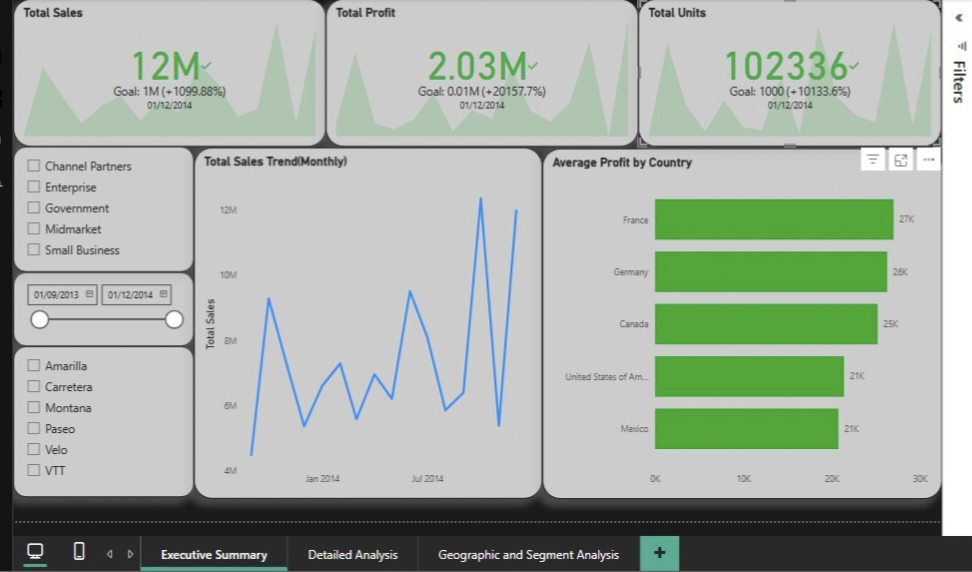

This screenshot's page, from the dashboard's own definition file:
{"tool":"powerbi","page":{"name":"Executive Summary","canvas":[1280,720],"ordinal":0},"visuals":[{"type":"kpi","title":"Total Sales ","fields":{"Indicator":["financials.Total Sales"],"TrendLine":["financials.Date"],"Goal":["financials.Sales Target"]},"box":[0,0,430.8,203.7],"z":0},{"type":"kpi","title":"Total Profit","fields":{"Indicator":["financials.Total Profit"],"TrendLine":["financials.Date"],"Goal":["financials.Profit target"]},"box":[430.8,0,430.8,203.7],"z":1000},{"type":"kpi","title":"Total Units","fields":{"Indicator":["financials.Total Units"],"TrendLine":["financials.Date"],"Goal":["financials.Unit Target"]},"box":[861.6,0,418.4,203.7],"z":2000},{"type":"slicer","fields":{"Values":["financials.Date"]},"box":[0,377.1,249.1,101.8],"z":3000},{"type":"slicer","fields":{"Values":["financials.Product"]},"box":[0,479,249.1,207.8],"z":4000},{"type":"slicer","fields":{"Values":["financials.Segment"]},"box":[0,203.7,249.1,173.4],"z":5000},{"type":"lineChart","title":"Total Sales Trend(Monthly)","fields":{"Category":["financials.Date.Variation.Date Hierarchy.Year","financials.Date.Variation.Date Hierarchy.Month"],"Y":["financials.Total Sales"]},"box":[249.1,205.1,480.3,484.5],"z":6000},{"type":"clusteredBarChart","title":"Average Profit by Country","fields":{"Y":["Avg(financials.Profit)"],"Category":["financials.Country"]},"box":[729.5,206.5,550.5,483.1],"z":7000}]}

Visuals, with their boxes in screenshot pixels (x1, y1, x2, y2):
"Total Sales " kpi: [x1=13, y1=0, x2=324, y2=145]
"Total Profit" kpi: [x1=324, y1=0, x2=635, y2=145]
"Total Units" kpi: [x1=635, y1=0, x2=937, y2=145]
slicer - financials.Date: [x1=13, y1=270, x2=193, y2=343]
slicer - financials.Product: [x1=13, y1=343, x2=193, y2=494]
slicer - financials.Segment: [x1=13, y1=145, x2=193, y2=270]
"Total Sales Trend(Monthly)" lineChart: [x1=193, y1=146, x2=540, y2=496]
"Average Profit by Country" clusteredBarChart: [x1=540, y1=147, x2=937, y2=496]
